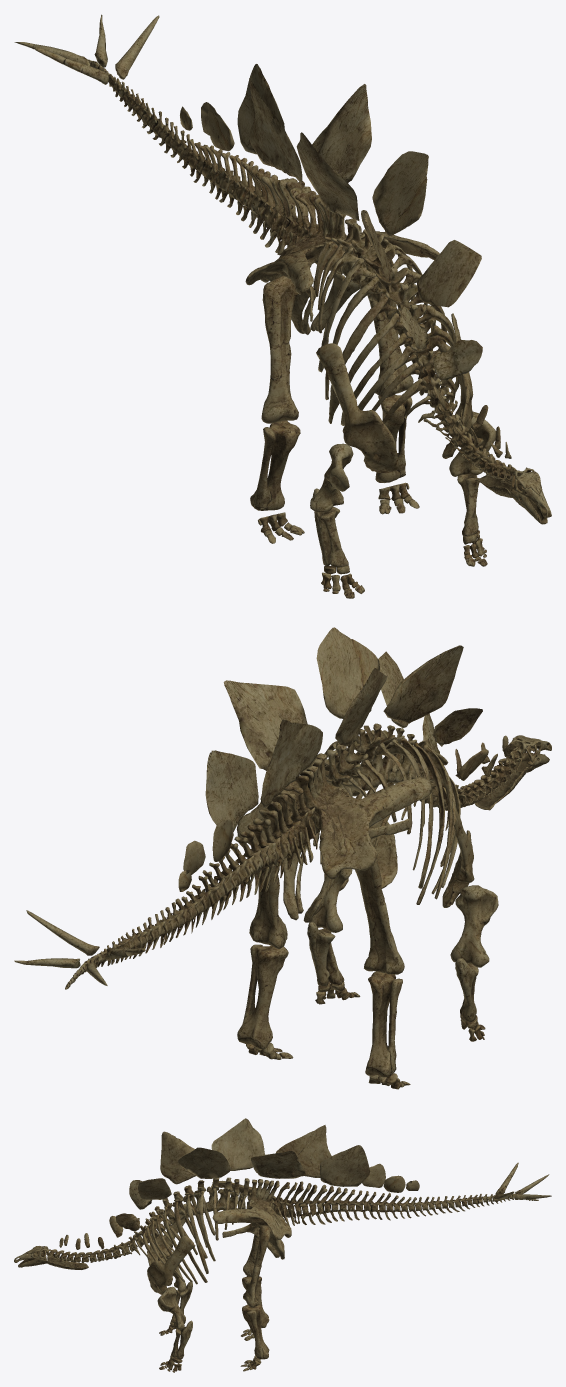
Rendered from stego_skeleton.glb.
3 renders of one model, top to bottom at view 1: azimuth 30°, elevation 25°; view 2: azimuth 150°, elevation 25°; view 3: azimuth 270°, elevation 25°, orthographic. The views are drawn at different scales.
Visible parts, largest first — view 1: Object_5, Object_10, Object_9, Object_3, Object_7; view 2: Object_5, Object_10, Object_9, Object_3, Object_7; view 3: Object_5, Object_9, Object_10, Object_3, Object_7.
Boxes of the visible parts, left/top/right/bottom form: Object_5: left=296, top=84, right=482, bottom=425; Object_10: left=250, top=272, right=495, bottom=598; Object_9: left=14, top=14, right=318, bottom=255; Object_3: left=245, top=194, right=439, bottom=334; Object_7: left=418, top=389, right=551, bottom=524; Object_5: left=223, top=627, right=488, bottom=904; Object_10: left=237, top=779, right=498, bottom=1089; Object_9: left=14, top=719, right=322, bottom=989; Object_3: left=236, top=753, right=431, bottom=922; Object_7: left=413, top=735, right=551, bottom=810; Object_5: left=109, top=1118, right=305, bottom=1284; Object_9: left=272, top=1125, right=551, bottom=1226; Object_10: left=147, top=1203, right=271, bottom=1372; Object_3: left=212, top=1179, right=291, bottom=1259; Object_7: left=14, top=1233, right=140, bottom=1269.
Size of the model in its own units: 1.41 by 3.06 by 6.71.
5 materials, 5 textured.
